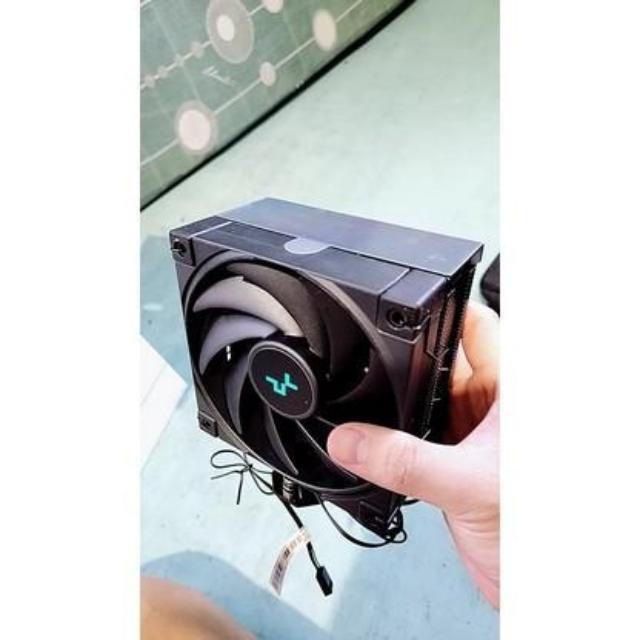CPU_Fan: (160, 192, 492, 546)
